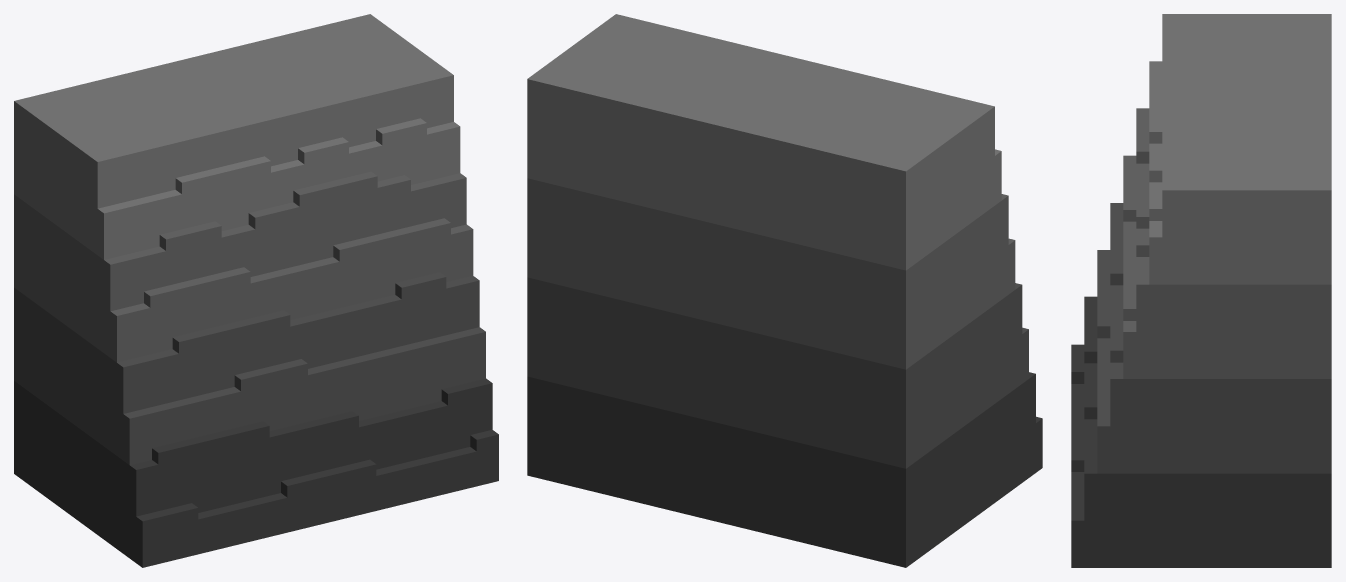
The model's file is mountain-side-3.gltf.
The picture shows the model from 3 angles, left to right: view 1: azimuth 30°, elevation 25°; view 2: azimuth 150°, elevation 25°; view 3: azimuth 270°, elevation 25°; orthographic projection. The views are drawn at different scales.
Parts seen in each view (by area): view 1: mountain-side-3; view 2: mountain-side-3; view 3: mountain-side-3.
Part boxes in pixels (<box>): mountain-side-3: <box>14,14,498,567</box>; mountain-side-3: <box>527,14,1042,567</box>; mountain-side-3: <box>1071,14,1331,567</box>.
Size of the model in its own units: 3.2 by 3.2 by 2.
1 material, 1 textured.
